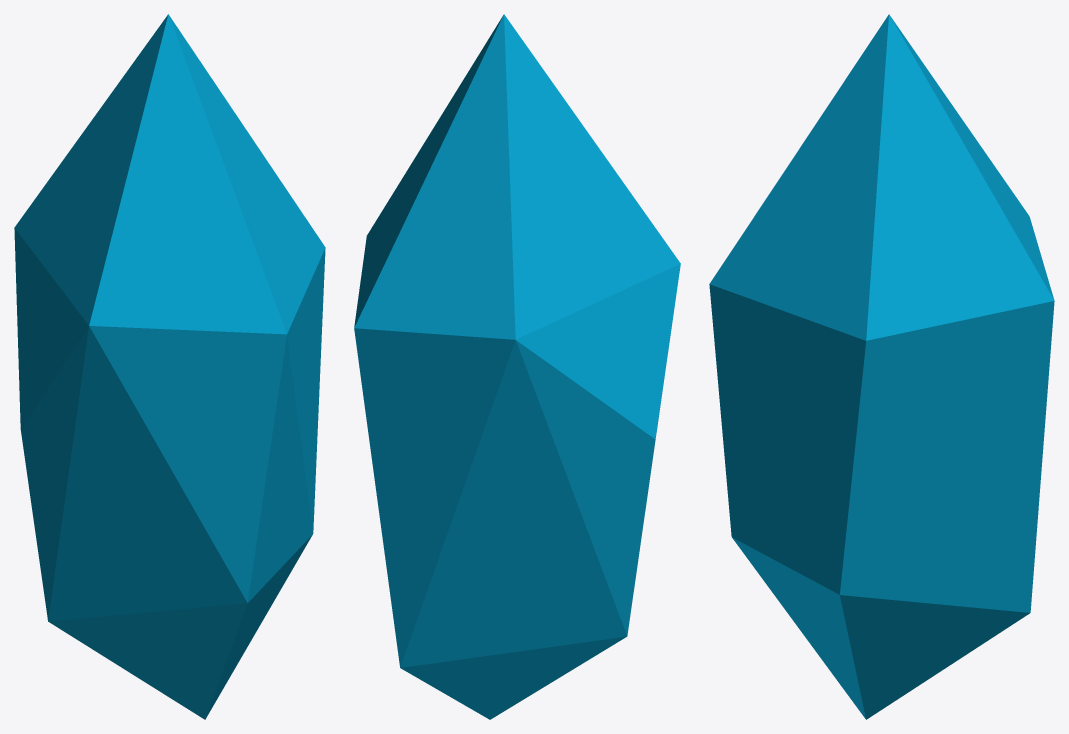
Rendered from Cristalshield.fbx.
3 renders of one model, left to right at view 1: azimuth 30°, elevation 25°; view 2: azimuth 150°, elevation 25°; view 3: azimuth 270°, elevation 25°, orthographic. The views are drawn at different scales.
Parts seen in each view (by area): view 1: Icosphere; view 2: Icosphere; view 3: Icosphere.
Part boxes in pixels (x1,y1,x2,y2): Icosphere: (14,14,325,719); Icosphere: (354,14,680,719); Icosphere: (709,14,1054,719).
Bounding box in the file's own units: 146 × 335 × 151.
